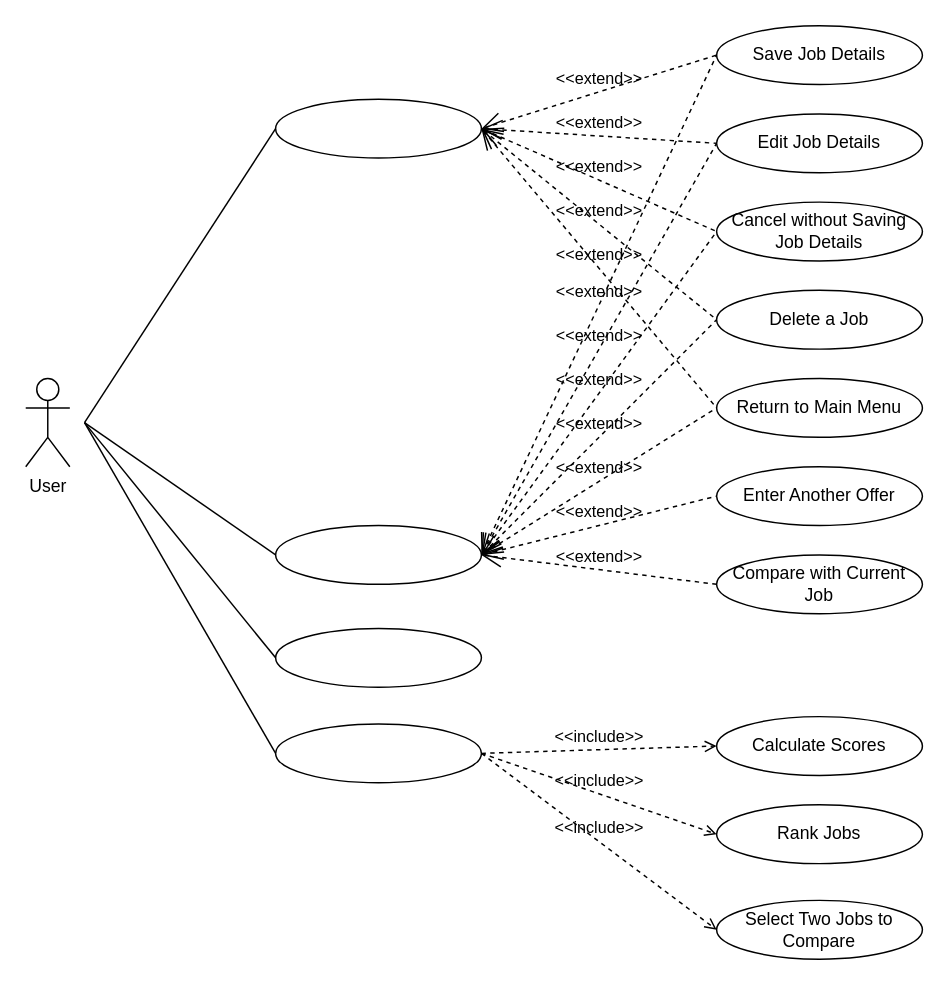
Image size: 948x985. Some labels were removed from this diagram. Here are the shapes that lost their labels. From the top down, the centre of each, then its label:
At (x=377, y=128): "Enter Current Job Details".
At (x=377, y=554): "Enter a Job Offer".
At (x=377, y=657): "Adjust Comparison Settings".
At (x=377, y=753): "Compare Jobs".
